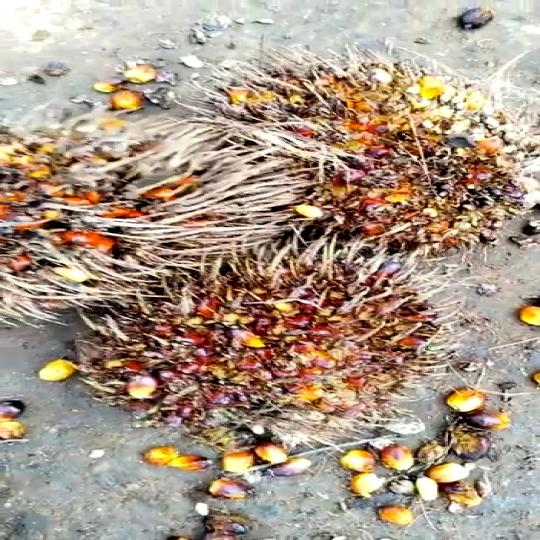terlalu masak: (63, 234, 426, 439), (167, 48, 535, 245), (0, 111, 313, 317)
